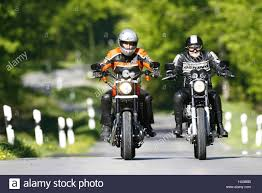bike: (83, 53, 160, 164), (166, 58, 241, 163)
